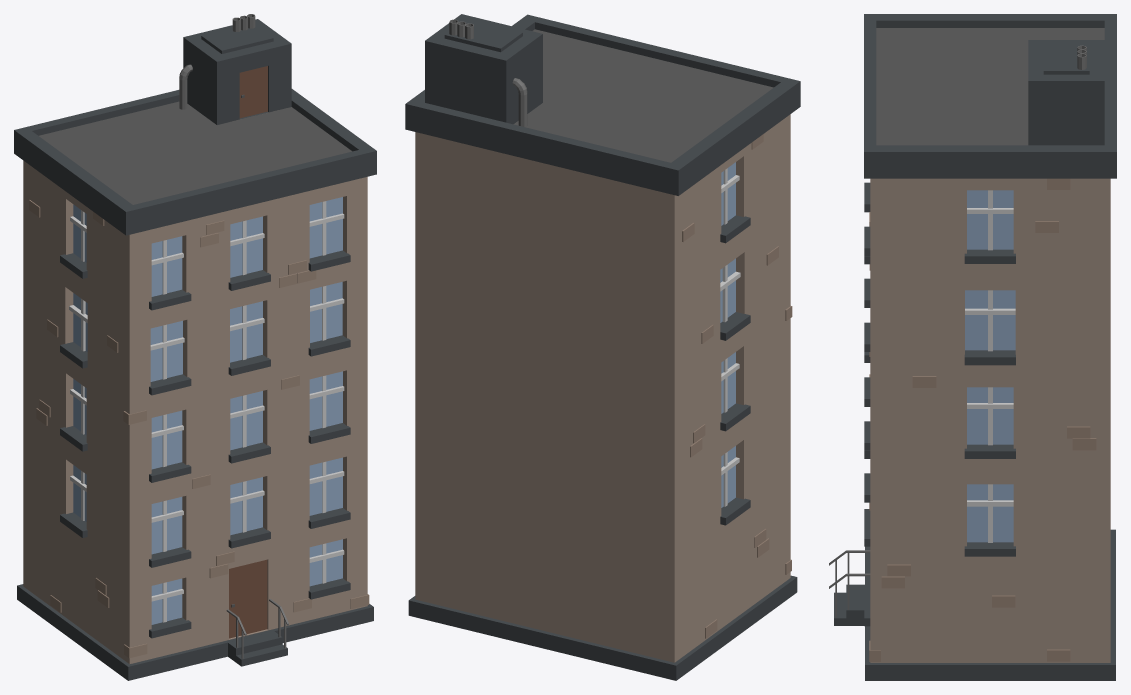
File: House_02.fbx
3 views of the same model, side by side, from view 1: azimuth 30°, elevation 25°; view 2: azimuth 150°, elevation 25°; view 3: azimuth 270°, elevation 25° (orthographic). The views are drawn at different scales.
Visible parts, largest first — view 1: House_02; view 2: House_02; view 3: House_02.
Part boxes in pixels (x1,y1,x2,y2): House_02: [14, 14, 376, 680]; House_02: [405, 14, 800, 680]; House_02: [829, 14, 1116, 680].
Bounding box in the file's own units: 714 × 1474 × 629.
